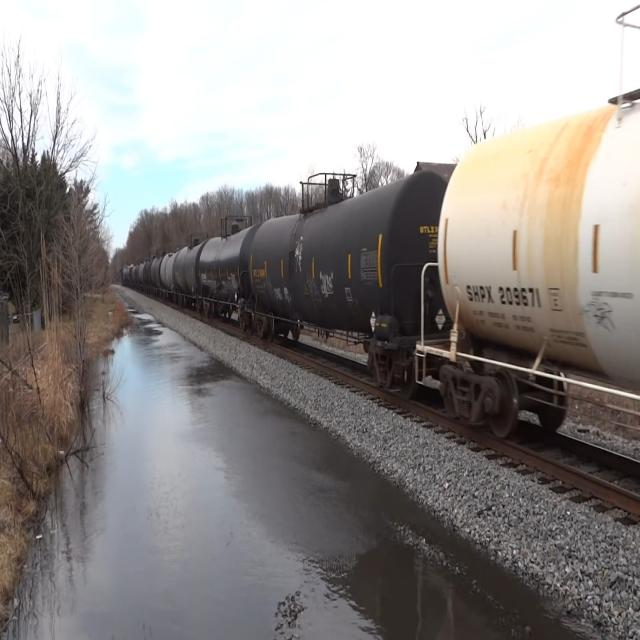tank: (424, 52, 640, 488), (249, 154, 457, 402), (197, 217, 259, 334)
